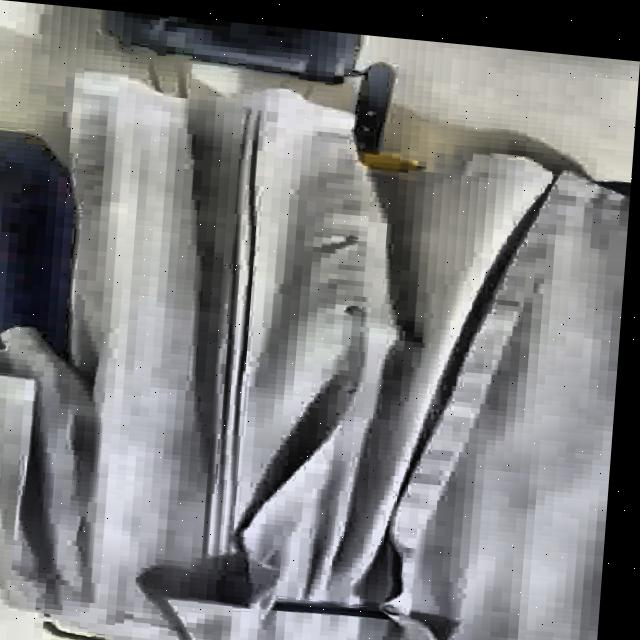clothes: (0, 62, 635, 640)
